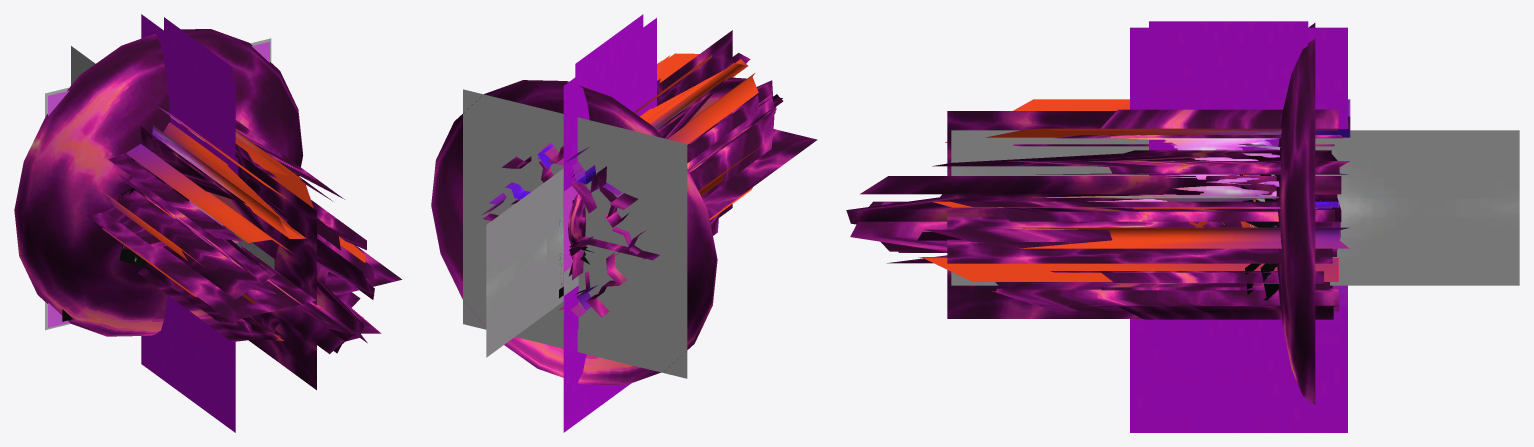
3 renders of one model, left to right at view 1: azimuth 30°, elevation 25°; view 2: azimuth 150°, elevation 25°; view 3: azimuth 270°, elevation 25°, orthographic. The views are drawn at different scales.
Parts seen in each view (by area): view 1: Sphere02, Object103, Plane@#14, Object114, Plane10, Plane233, Object104, "Editable Poly@#6", Plane@#22, Plane14, Plane228, Plane251; view 2: Plane251, Sphere02, Plane@#14, Object103, Plane228, Object114, Plane233, Plane10, Plane07, "Editable Poly@#6", Plane229, Object104 (+4 smaller); view 3: Plane228, Plane@#22, Object103, Plane@#14, Object114, Object104, Sphere02, "Editable Poly@#6", Plane233, Plane10, "Editable Poly@#7".
Part boxes in pixels (<box>): Sphere02: <box>14,29,303,336</box>; Object103: <box>108,120,375,339</box>; Plane@#14: <box>141,14,235,432</box>; Object114: <box>101,106,365,340</box>; Plane10: <box>235,152,316,389</box>; Plane233: <box>86,204,401,321</box>; Object104: <box>267,238,381,354</box>; "Editable Poly@#6": <box>105,132,287,341</box>; Plane@#22: <box>164,17,232,80</box>; Plane14: <box>48,41,269,327</box>; Plane228: <box>71,46,95,85</box>; Plane251: <box>45,38,271,330</box>; Plane251: <box>463,89,687,378</box>; Sphere02: <box>431,80,717,385</box>; Plane@#14: <box>563,18,656,432</box>; Object103: <box>502,61,774,251</box>; Plane228: <box>486,168,563,357</box>; Object114: <box>481,53,765,317</box>; Plane233: <box>483,124,817,260</box>; Plane10: <box>657,30,732,217</box>; Plane07: <box>547,186,563,298</box>; "Editable Poly@#6": <box>511,77,718,317</box>; Plane229: <box>528,143,690,295</box>; Object104: <box>568,53,783,280</box>; Plane228: <box>951,130,1519,285</box>; Plane@#22: <box>1149,21,1308,382</box>; Object103: <box>917,116,1350,319</box>; Plane@#14: <box>1130,27,1347,432</box>; Object114: <box>918,99,1350,291</box>; Object104: <box>846,176,1341,263</box>; Sphere02: <box>1275,23,1315,404</box>; "Editable Poly@#6": <box>995,109,1342,290</box>; Plane233: <box>947,216,1332,263</box>; Plane10: <box>947,111,1332,318</box>; "Editable Poly@#7": <box>1078,138,1280,201</box>.
Bounding box in the file's own units: 9.62 × 11.4 × 16.77.
